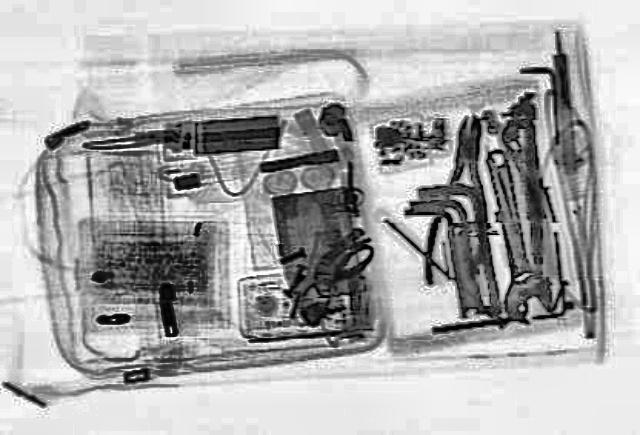Pliers: (416, 113, 504, 286)
Wrench: (468, 144, 560, 324)
